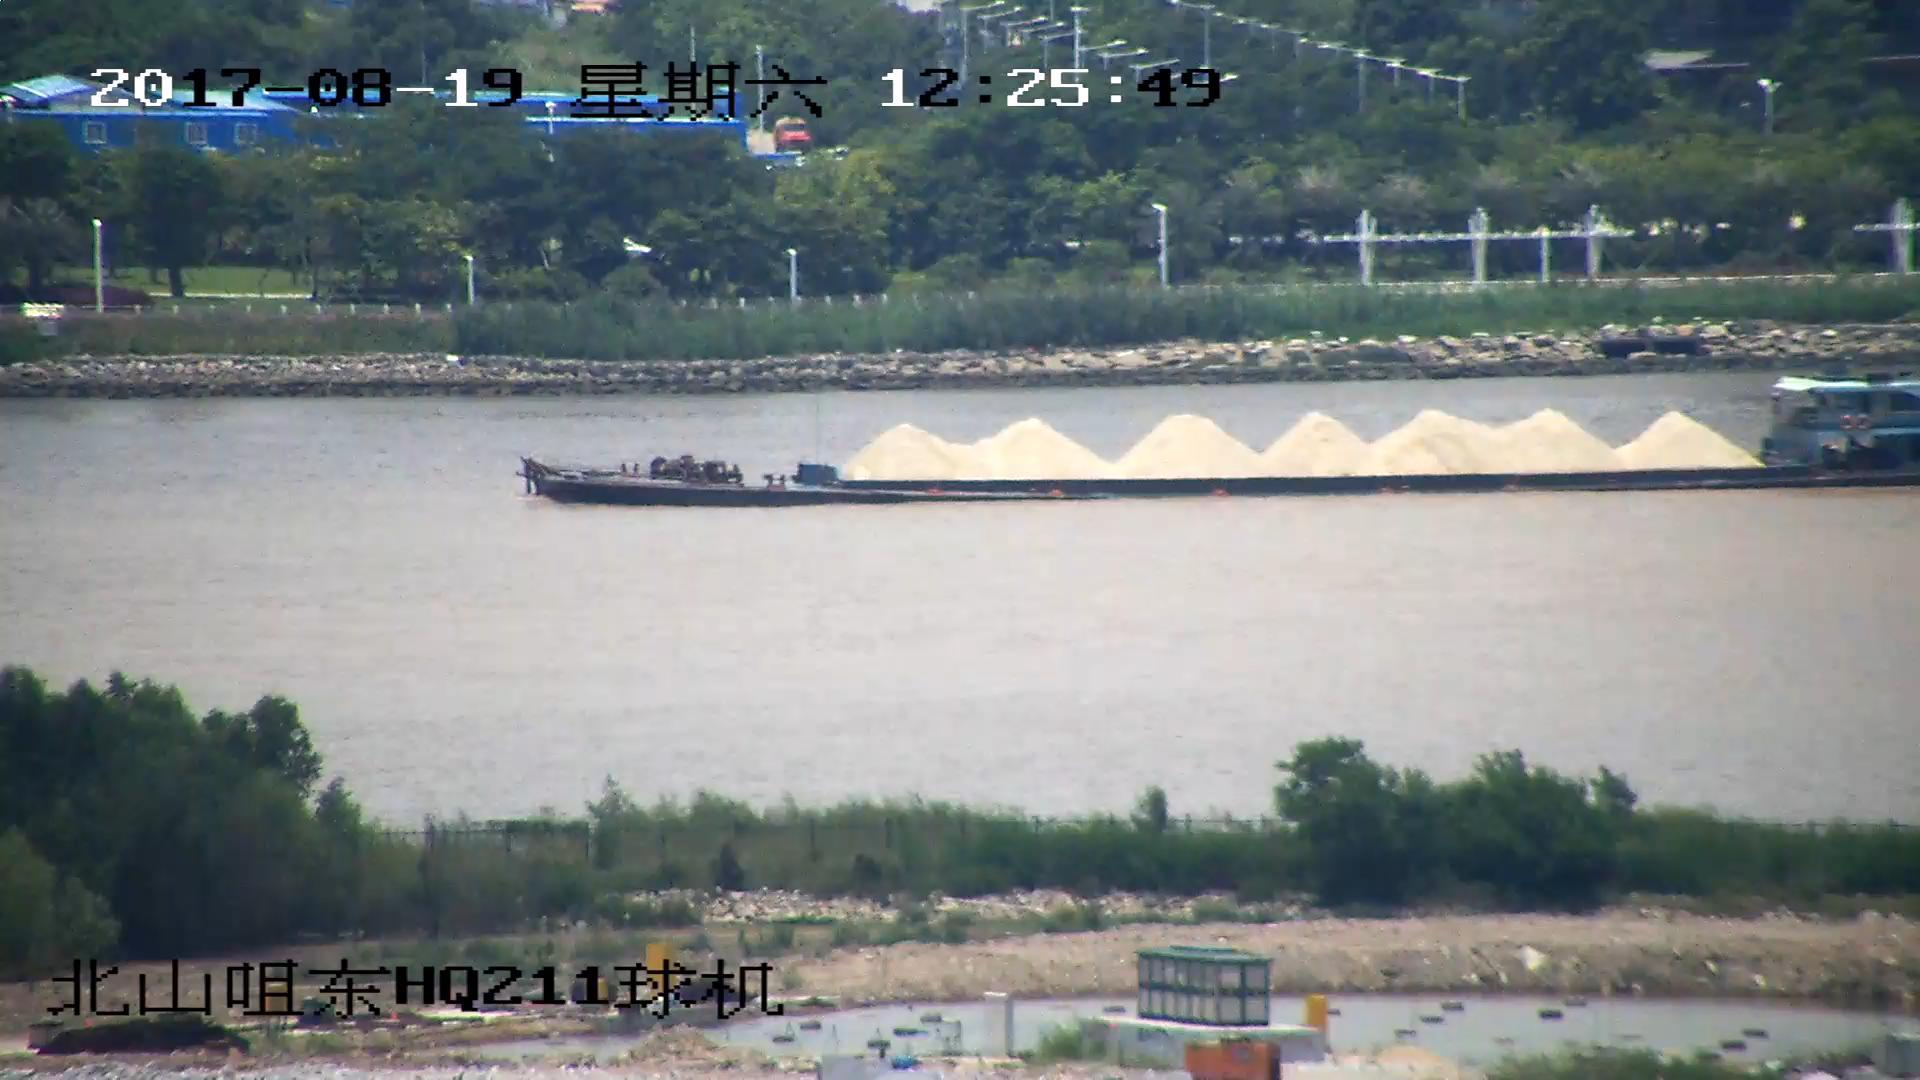Ship: (522, 380, 1920, 510)
